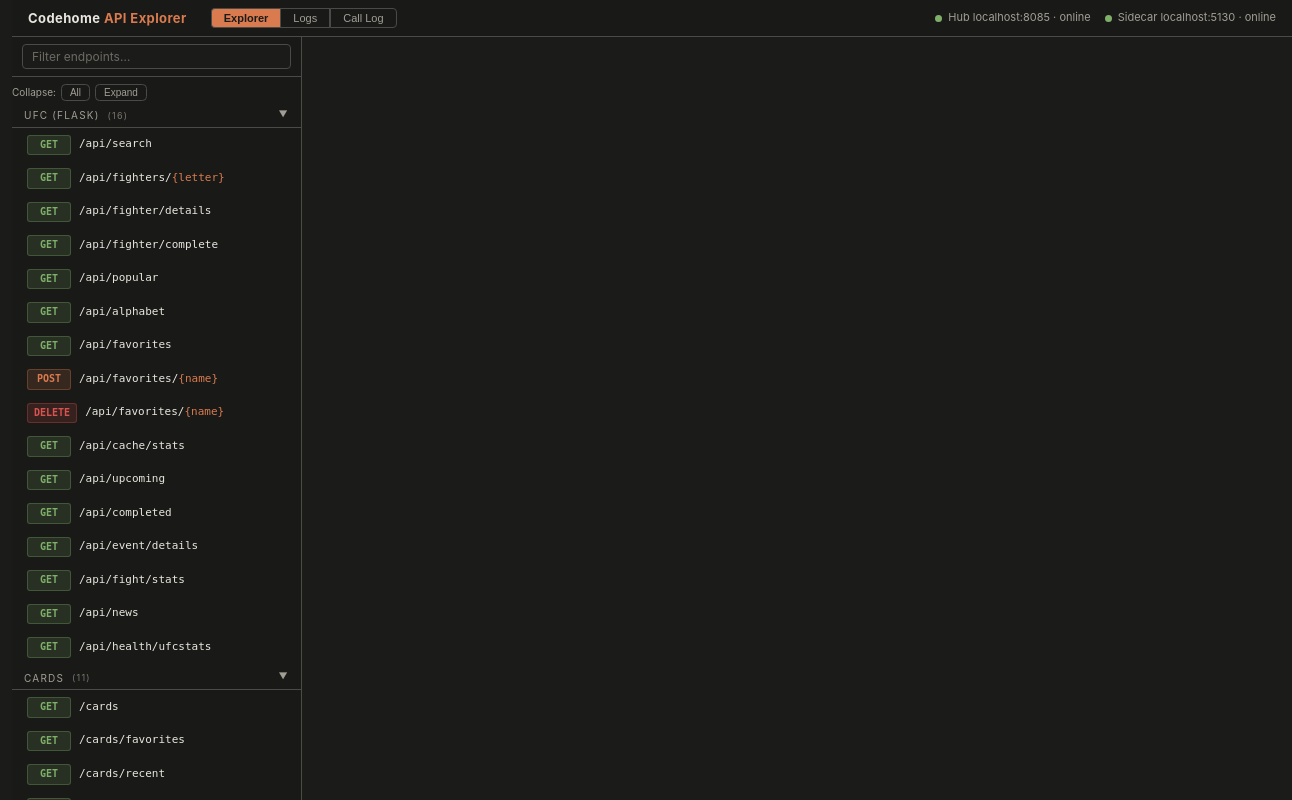
Test: HubApiExplorer Integration Tests › Filter Workflow › should show no results when filter matches nothing
Type "NONEXISTENTPATH12345" into the field with test id "filter-input" at (156, 56), box [22, 44, 291, 69]
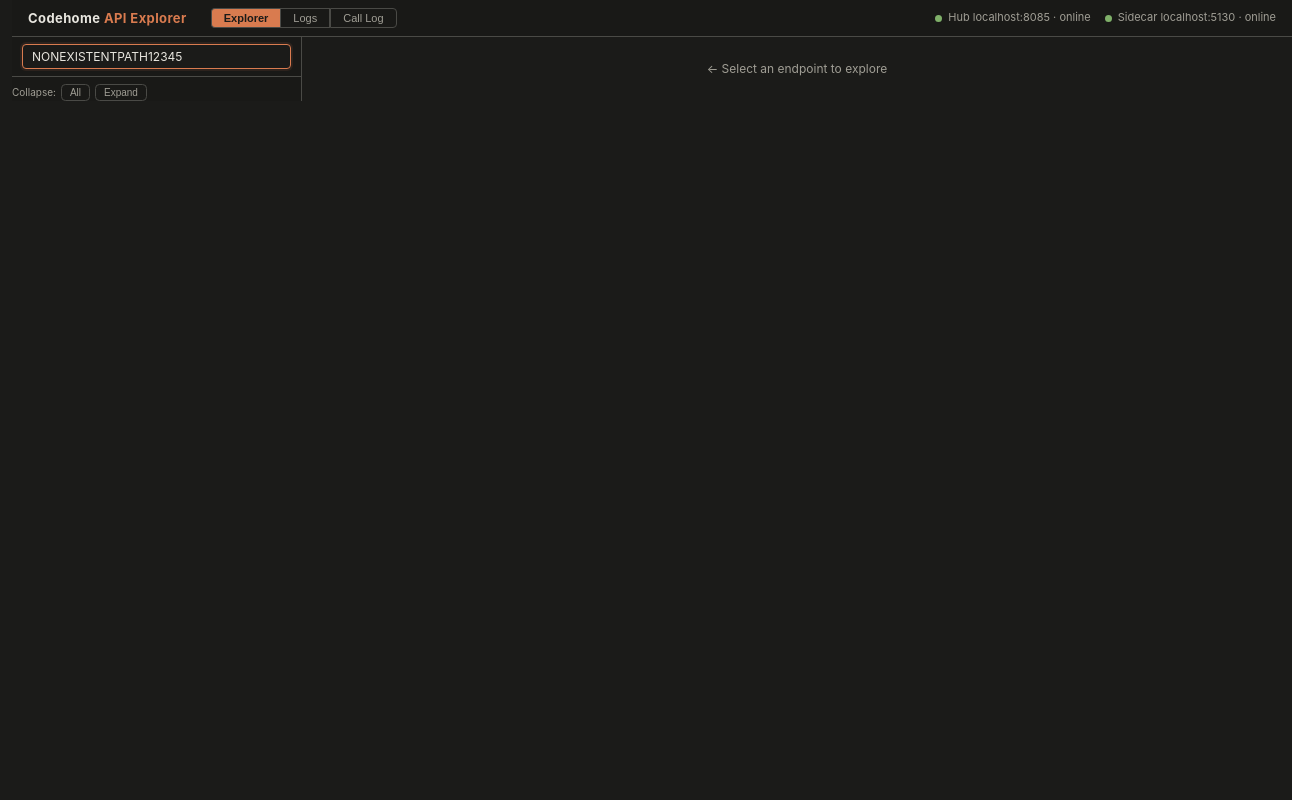
expect no buttons with test id "endpoint-list-item" are shown: met
